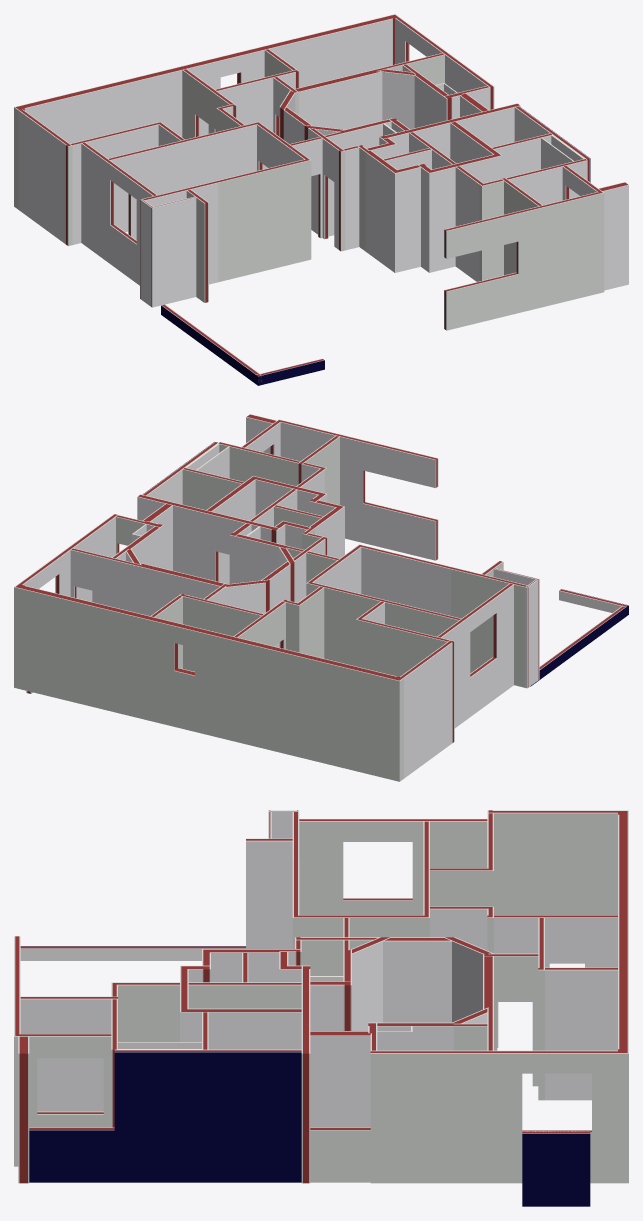
File: PROJETO BIM 12 ANDARES_sexto_pavimento_IfcWallStandardCase.dae
3 renders of one model, top to bottom at view 1: azimuth 30°, elevation 25°; view 2: azimuth 150°, elevation 25°; view 3: azimuth 270°, elevation 25°, orthographic. The views are drawn at different scales.
Parts seen in each view (by area): view 1: 1C3e13NTDBWfr6F8kTVnX0, 1C3e13NTDBWfr6F8kTVnXm, 1C3e13NTDBWfr6F8kTVnXu, 1C3e13NTDBWfr6F8kTVnXs, 1C3e13NTDBWfr6F8kTVnXo, 1C3e13NTDBWfr6F8kTVnXn, 1C3e13NTDBWfr6F8kTVnXr, 1C3e13NTDBWfr6F8kTVnXz, 1C3e13NTDBWfr6F8kTVnXi, 1C3e13NTDBWfr6F8kTVnXp, 1C3e13NTDBWfr6F8kTVnXQ, 1C3e13NTDBWfr6F8kTVnXb (+37 smaller); view 2: 1C3e13NTDBWfr6F8kTVnXm, 1C3e13NTDBWfr6F8kTVnXn, 1C3e13NTDBWfr6F8kTVnX0, 1C3e13NTDBWfr6F8kTVnXr, 1C3e13NTDBWfr6F8kTVnXo, 1C3e13NTDBWfr6F8kTVnXb, 1C3e13NTDBWfr6F8kTVnXs, 1C3e13NTDBWfr6F8kTVnXu, 1C3e13NTDBWfr6F8kTVnX$, 1C3e13NTDBWfr6F8kTVnXp, 1C3e13NTDBWfr6F8kTVnX_, 1C3e13NTDBWfr6F8kTVnXA (+31 smaller); view 3: 1C3e13NTDBWfr6F8kTVnXL, 1C3e13NTDBWfr6F8kTVnX_, 1C3e13NTDBWfr6F8kTVnXo, 1C3e13NTDBWfr6F8kTVnXr, 1C3e13NTDBWfr6F8kTVnX9, 1C3e13NTDBWfr6F8kTVnX1, 1C3e13NTDBWfr6F8kTVnXc, 1C3e13NTDBWfr6F8kTVnXk, 1C3e13NTDBWfr6F8kTVnX7, 3l4Yq7pwrDGumYsSSFGymY, 1C3e13NTDBWfr6F8kTVnXx, 1C3e13NTDBWfr6F8kTVnXV (+29 smaller).
Part boxes in pixels (x1,y1,x2,y2): 1C3e13NTDBWfr6F8kTVnX0: (444,192,599,330); 1C3e13NTDBWfr6F8kTVnXm: (14,52,242,209); 1C3e13NTDBWfr6F8kTVnXu: (216,159,306,282); 1C3e13NTDBWfr6F8kTVnXs: (108,121,260,239); 1C3e13NTDBWfr6F8kTVnXo: (18,109,72,245); 1C3e13NTDBWfr6F8kTVnXn: (261,14,399,87); 1C3e13NTDBWfr6F8kTVnXr: (81,142,157,285); 1C3e13NTDBWfr6F8kTVnXz: (153,196,196,306); 1C3e13NTDBWfr6F8kTVnXi: (295,70,382,129); 1C3e13NTDBWfr6F8kTVnXp: (70,122,162,244); 1C3e13NTDBWfr6F8kTVnXQ: (391,165,420,272); 1C3e13NTDBWfr6F8kTVnXb: (379,103,520,158); 1C3e13NTDBWfr6F8kTVnXm: (172,623,403,781); 1C3e13NTDBWfr6F8kTVnXn: (14,584,154,720); 1C3e13NTDBWfr6F8kTVnX0: (280,420,438,560); 1C3e13NTDBWfr6F8kTVnXr: (437,583,513,728); 1C3e13NTDBWfr6F8kTVnXo: (400,640,454,778); 1C3e13NTDBWfr6F8kTVnXb: (137,494,280,581); 1C3e13NTDBWfr6F8kTVnXs: (306,581,460,666); 1C3e13NTDBWfr6F8kTVnXu: (361,545,452,615); 1C3e13NTDBWfr6F8kTVnX$: (70,548,143,614); 1C3e13NTDBWfr6F8kTVnXp: (356,617,449,676); 1C3e13NTDBWfr6F8kTVnX_: (19,514,117,601); 1C3e13NTDBWfr6F8kTVnXA: (150,617,176,726); 1C3e13NTDBWfr6F8kTVnXL: (29,1049,301,1182); 1C3e13NTDBWfr6F8kTVnX_: (370,1050,617,1183); 1C3e13NTDBWfr6F8kTVnXo: (487,810,617,915); 1C3e13NTDBWfr6F8kTVnXr: (299,819,487,915); 1C3e13NTDBWfr6F8kTVnX9: (545,967,617,1100); 1C3e13NTDBWfr6F8kTVnX1: (20,996,117,1111); 1C3e13NTDBWfr6F8kTVnXc: (310,1031,370,1127); 1C3e13NTDBWfr6F8kTVnXk: (383,937,451,1022); 1C3e13NTDBWfr6F8kTVnX7: (494,915,617,1047); 3l4Yq7pwrDGumYsSSFGymY: (522,1131,590,1206); 1C3e13NTDBWfr6F8kTVnXx: (246,838,292,948); 1C3e13NTDBWfr6F8kTVnXV: (14,1034,111,1166).
Size of the model in its own units: 13.08 by 13.9 by 3.78.
